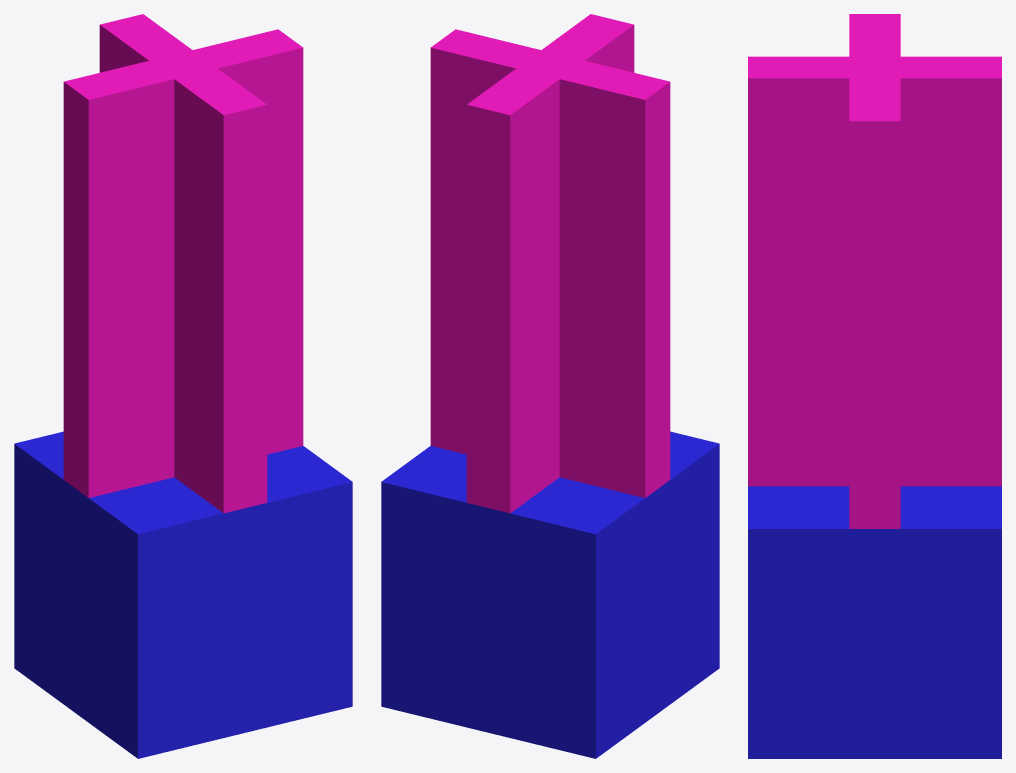
The model's file is XWall.fbx.
3 renders of one model, left to right at view 1: azimuth 30°, elevation 25°; view 2: azimuth 150°, elevation 25°; view 3: azimuth 270°, elevation 25°, orthographic. The views are drawn at different scales.
Visible parts, largest first — view 1: Xwall_lowpoly, Box244; view 2: Xwall_lowpoly, Box244; view 3: Xwall_lowpoly, Box244.
Part boxes in pixels (x1=…): Xwall_lowpoly: x1=63, y1=14, x2=303, y2=513; Box244: x1=14, y1=431, x2=352, y2=758; Xwall_lowpoly: x1=430, y1=14, x2=670, y2=513; Box244: x1=381, y1=431, x2=719, y2=758; Xwall_lowpoly: x1=748, y1=14, x2=1001, y2=528; Box244: x1=748, y1=486, x2=1001, y2=758.
Size of the model in its own units: 39.5 by 110 by 39.5.
